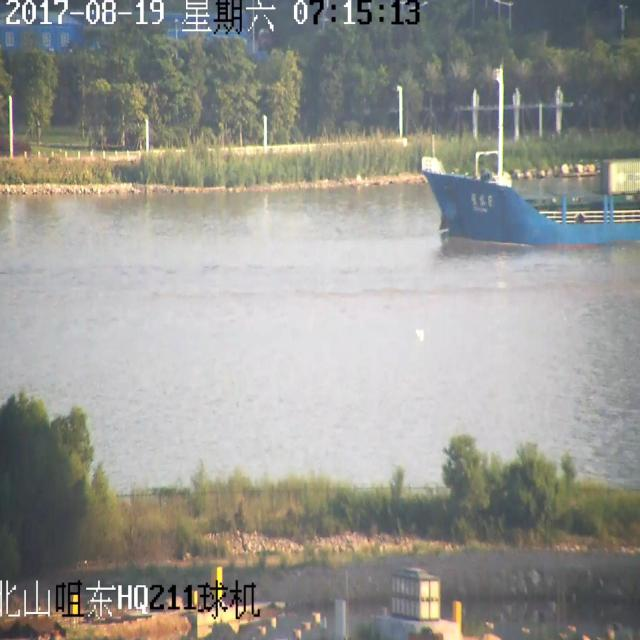cargoship: (410, 103, 640, 250)
